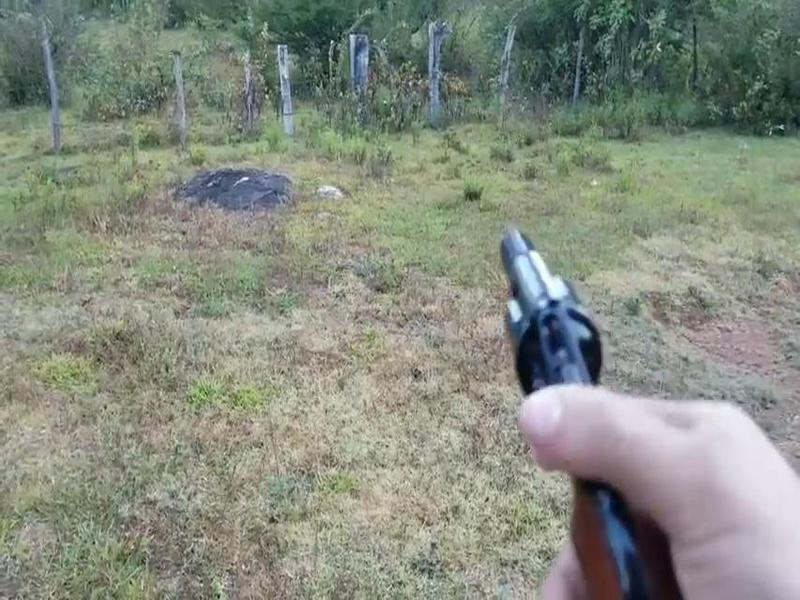Revolver: (445, 215, 701, 578)
